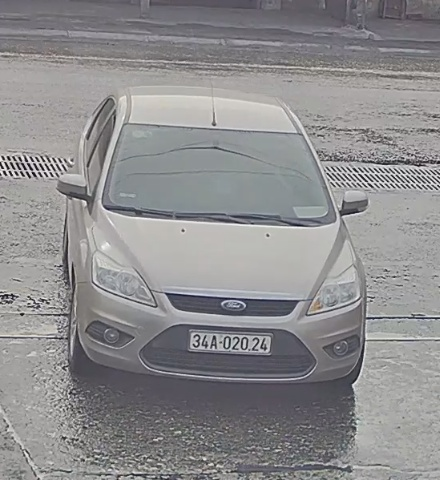vehicle plate: (184, 326, 274, 355)
